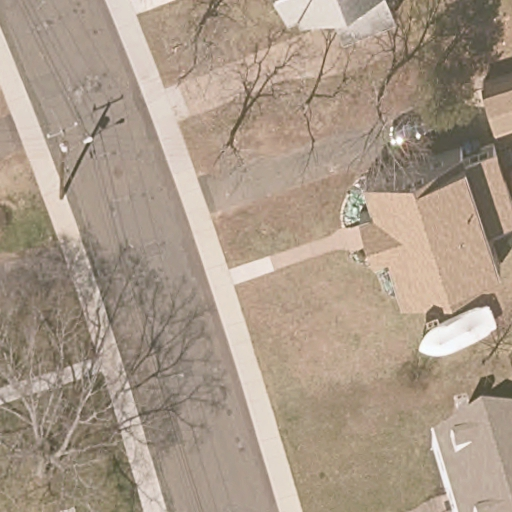DT: (45, 122, 95, 200)
